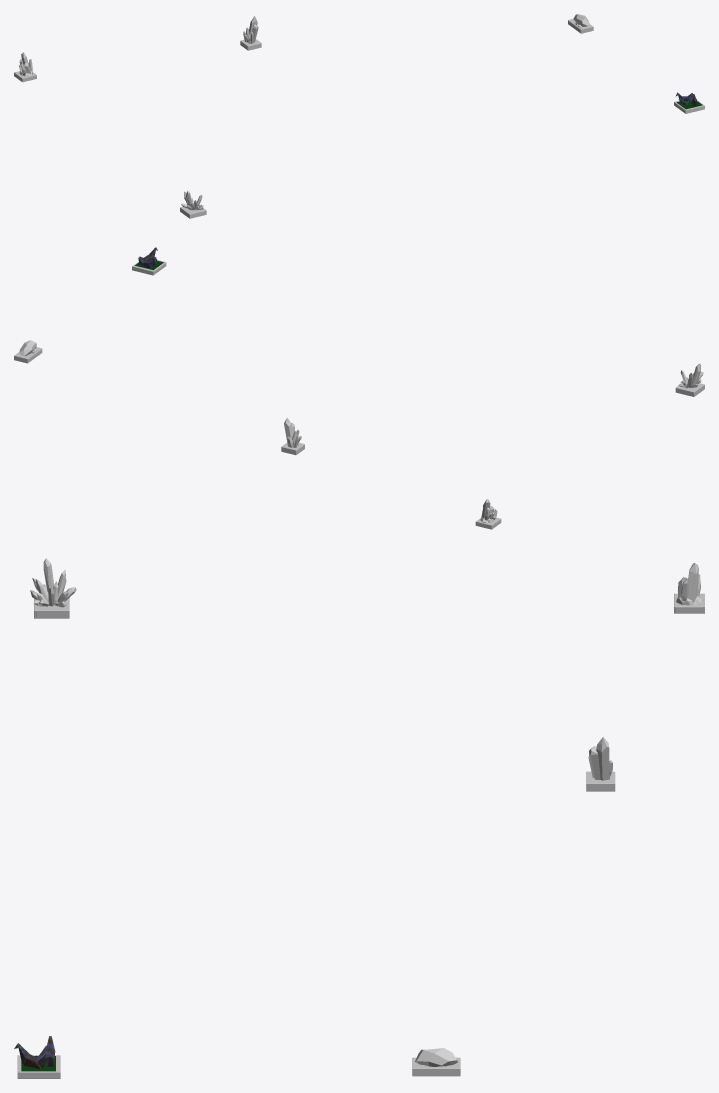
Rendered from CR04_Props.FBX.
The picture shows the model from 3 angles, top to bottom: view 1: azimuth 30°, elevation 25°; view 2: azimuth 150°, elevation 25°; view 3: azimuth 270°, elevation 25°; orthographic projection. The views are drawn at different scales.
Parts seen in each view (by area): view 1: no part large enough to name; view 2: no part large enough to name; view 3: Prop_05.
Boxes of the visible parts, bbox=[...] form: Prop_05: bbox=[30, 558, 76, 607].
Size of the model in its own units: 7937 by 693 by 5097.
